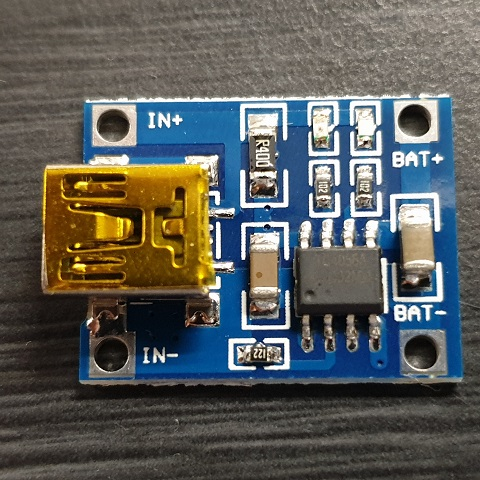batt+: (390, 95, 428, 143)
batt-: (402, 327, 436, 376)
charge: (304, 99, 340, 154)
done: (344, 98, 380, 151)
rprog: (221, 338, 282, 370)
usb: (36, 162, 216, 291)
